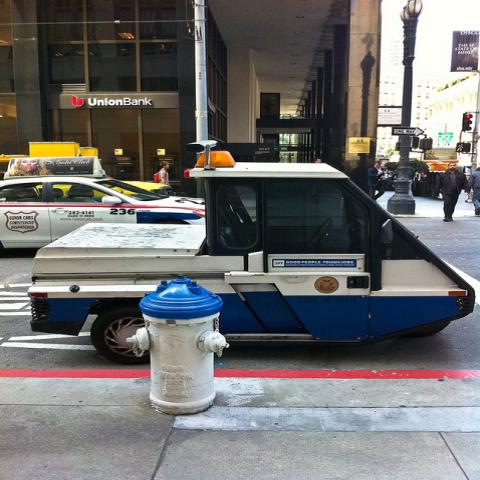car: (8, 178, 200, 249)
truck: (24, 149, 480, 362)
